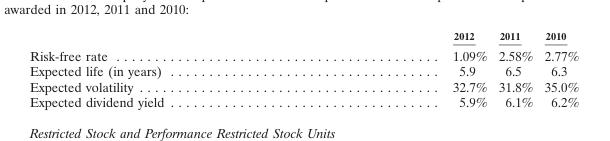table: (28, 29, 578, 109)
table column: (28, 29, 307, 109), (307, 29, 492, 109), (492, 29, 538, 109), (538, 29, 578, 109)
table column header: (28, 29, 578, 44)
table row: (28, 44, 578, 62), (28, 62, 578, 78), (28, 93, 578, 109), (28, 29, 578, 44), (28, 78, 578, 93)
